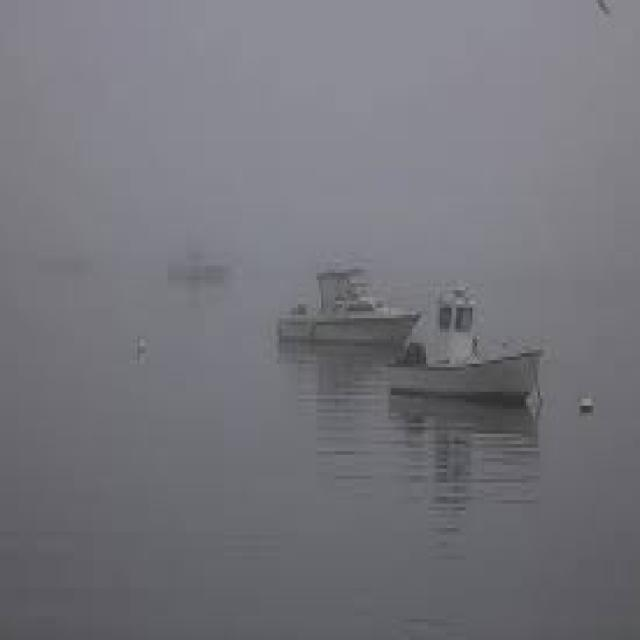houseboat: (385, 276, 549, 404), (276, 250, 417, 348)
